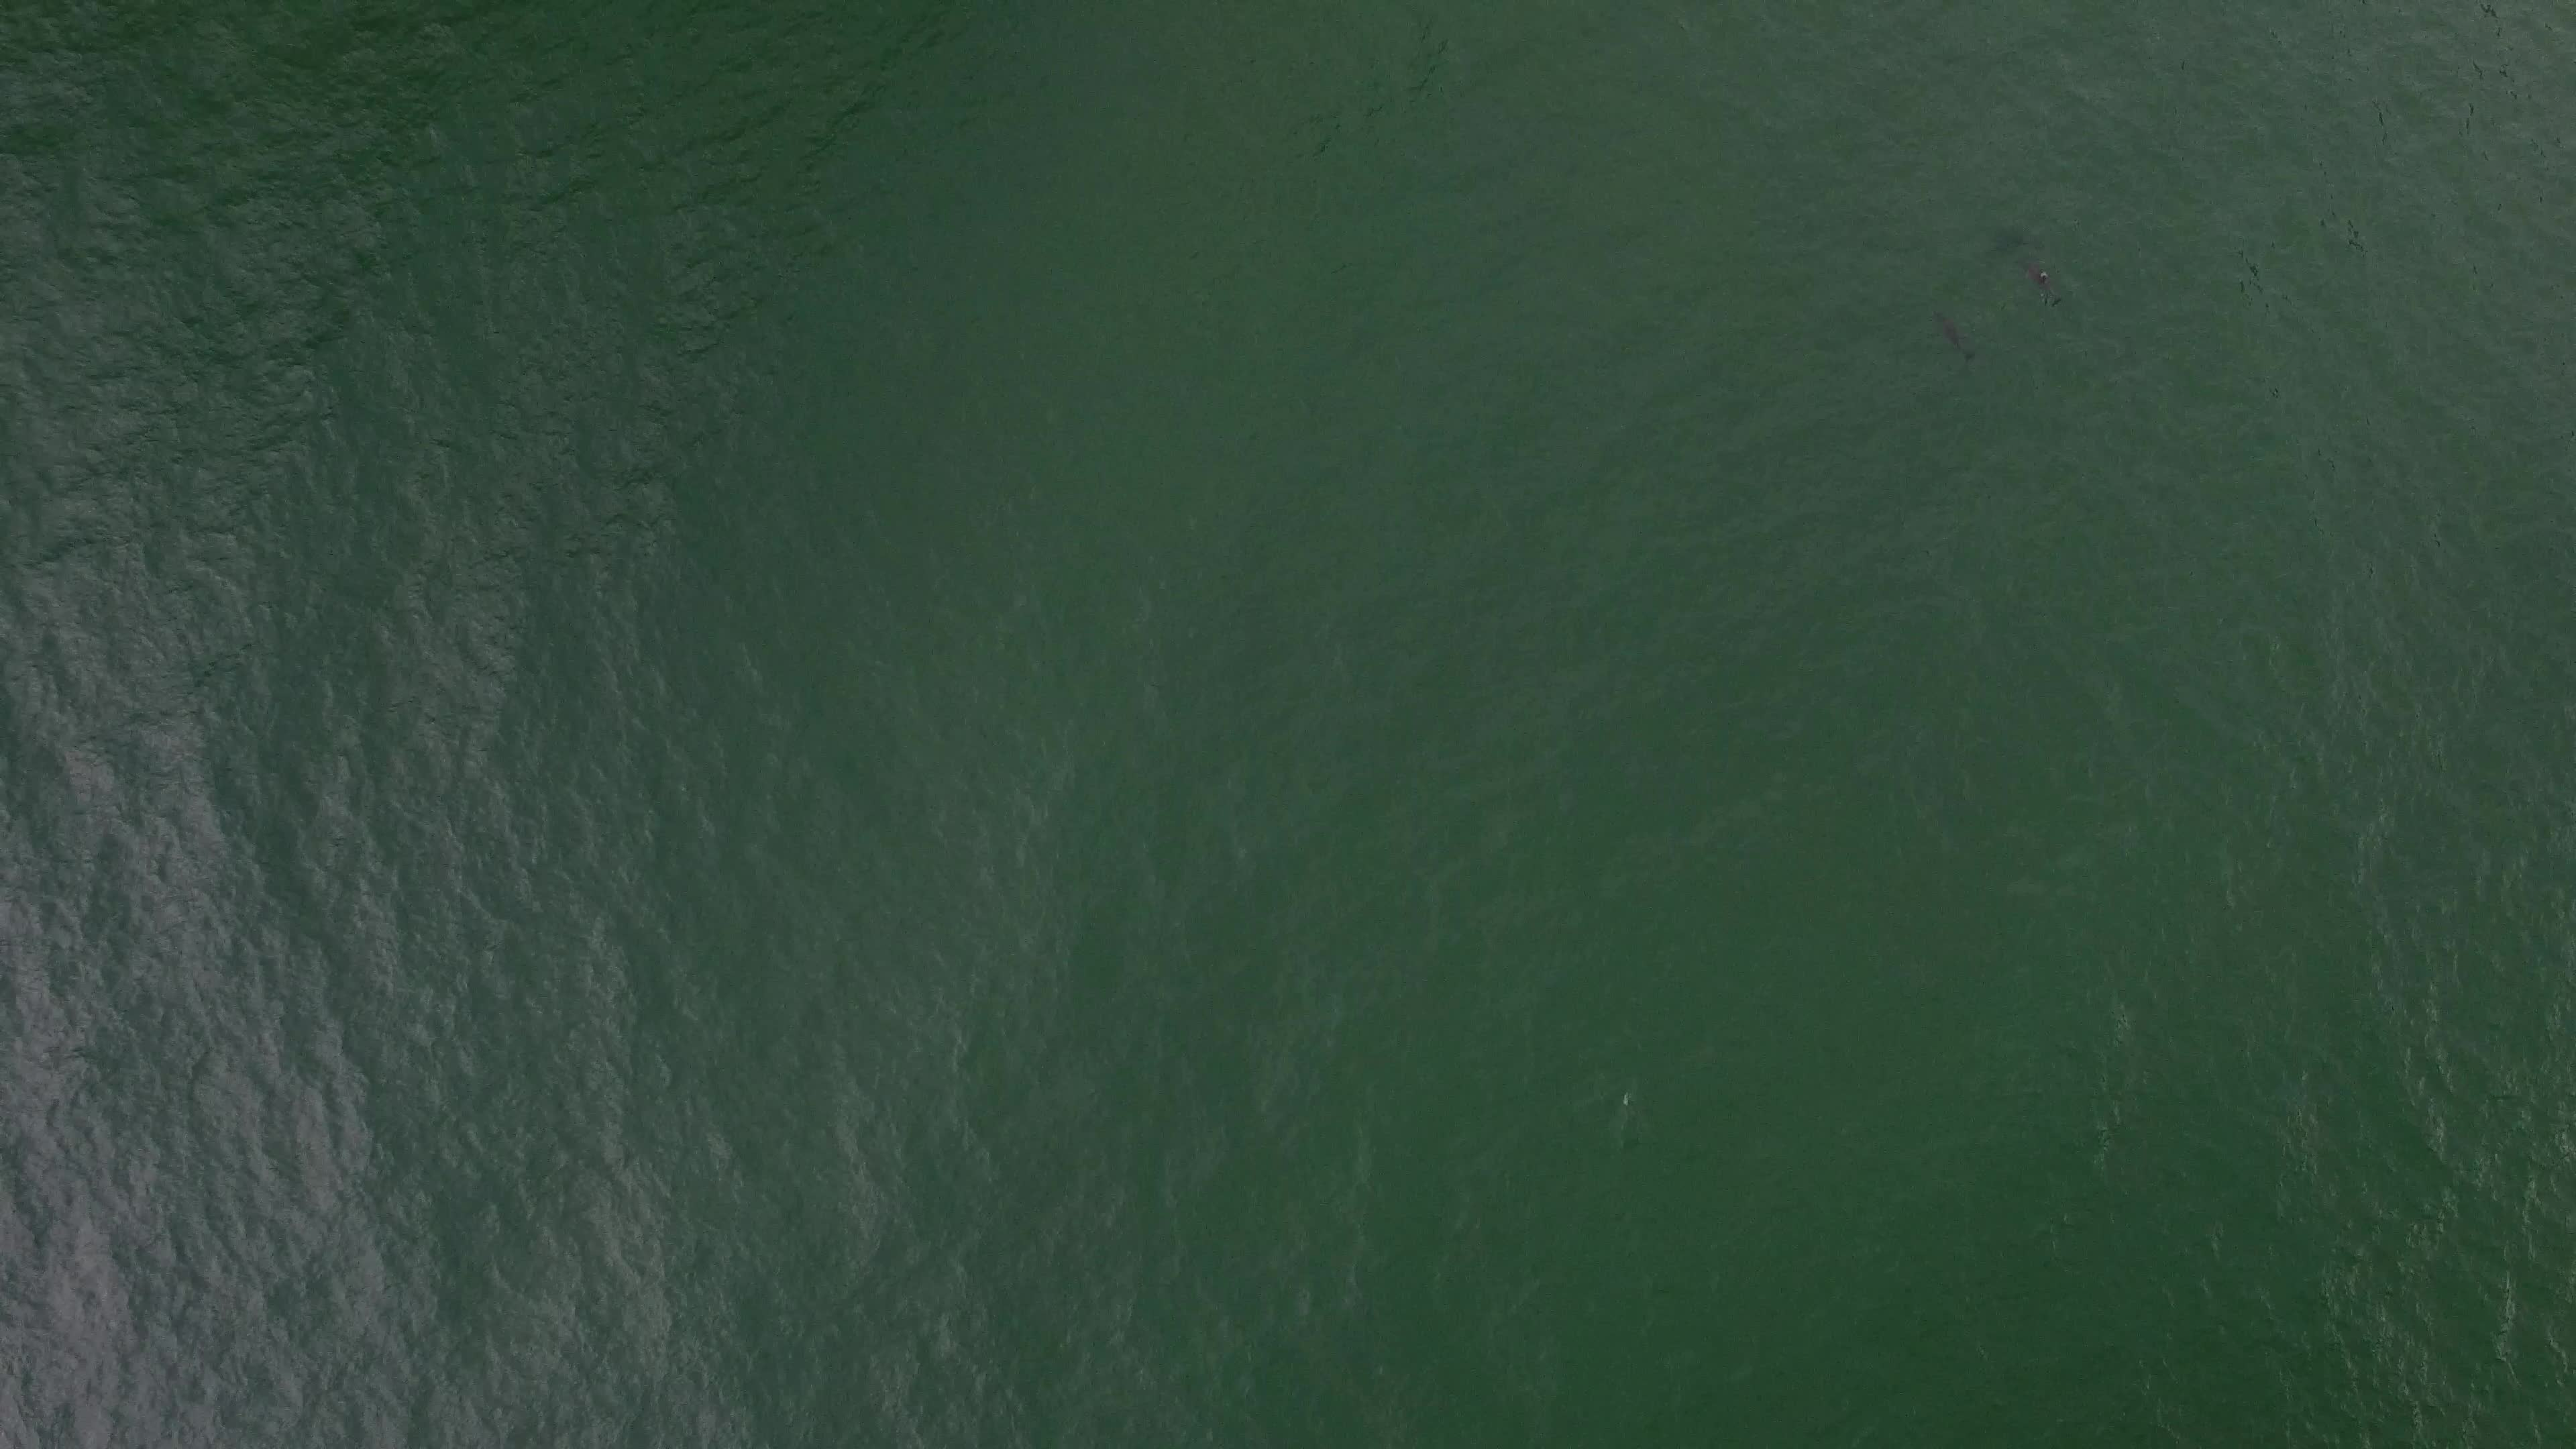dolphin: (1911, 285, 1994, 375), (1989, 237, 2066, 324)
